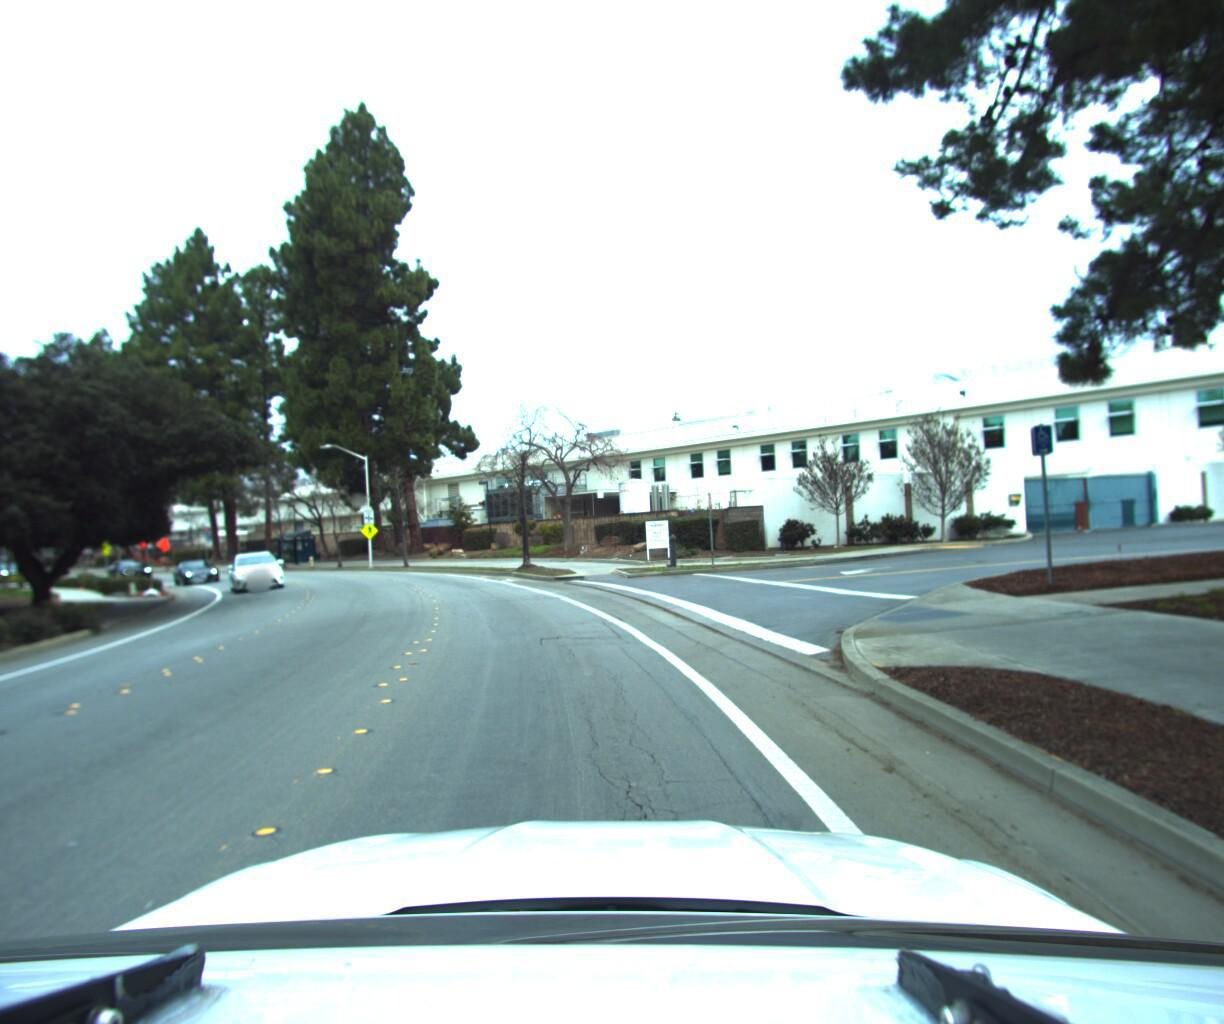car: (228, 548, 286, 595), (170, 552, 220, 584)
